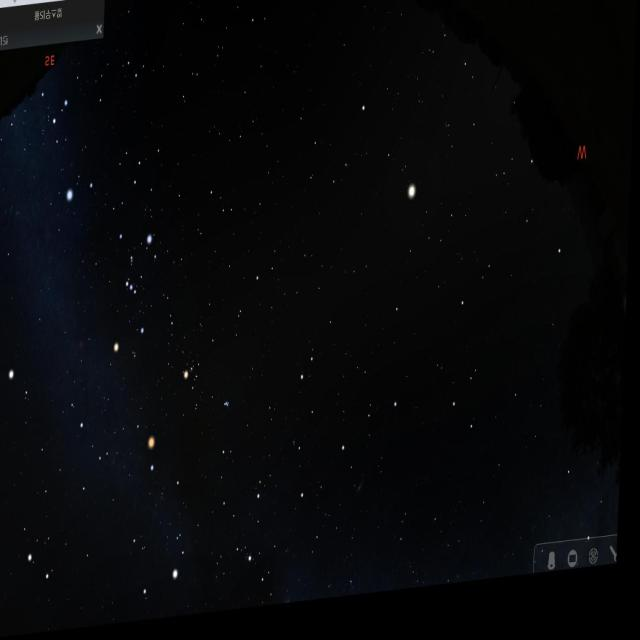canis_major: (42, 86, 100, 212)
canis_minor: (9, 344, 39, 415)
gemini: (23, 437, 122, 606)
orion: (106, 223, 160, 377)
pleiades: (219, 399, 237, 425)
taurus: (180, 328, 244, 448)
